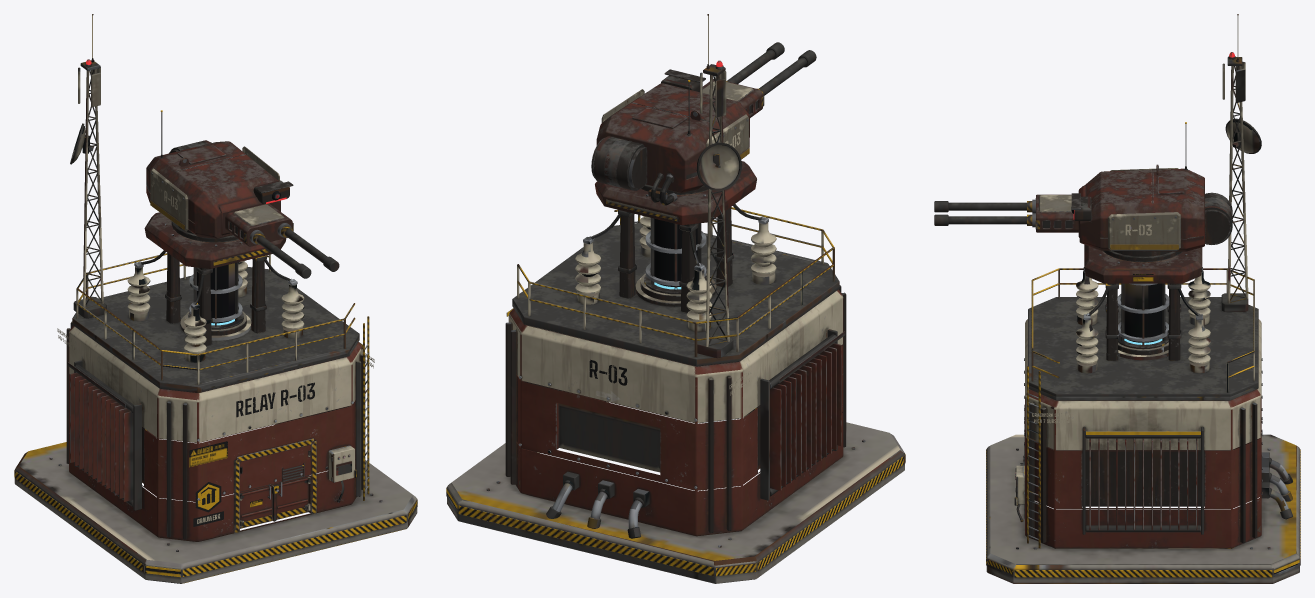
Rendered from SM_enemy_relay.fbx.
The picture shows the model from 3 angles, left to right: view 1: azimuth 30°, elevation 25°; view 2: azimuth 150°, elevation 25°; view 3: azimuth 270°, elevation 25°; orthographic projection. The views are drawn at different scales.
Visible parts, largest first — view 1: base_geo, kit_geo, head_geo, door_geo, barrel_geo, base_decals, core_glass_geo, core_geo; view 2: base_geo, kit_geo, head_geo, barrel_geo, core_glass_geo, core_geo; view 3: base_geo, kit_geo, head_geo, barrel_geo, core_glass_geo, core_geo, door_geo.
Boxes of the visible parts, <box> form: base_geo: <box>14,212,417,583</box>; kit_geo: <box>66,14,369,539</box>; head_geo: <box>146,110,293,242</box>; door_geo: <box>234,438,357,533</box>; barrel_geo: <box>218,196,339,278</box>; base_decals: <box>57,328,374,526</box>; core_glass_geo: <box>197,263,234,323</box>; core_geo: <box>189,262,242,326</box>; base_geo: <box>446,161,905,583</box>; kit_geo: <box>505,14,846,538</box>; head_geo: <box>591,69,749,205</box>; barrel_geo: <box>702,42,816,117</box>; core_glass_geo: <box>654,218,697,286</box>; core_geo: <box>645,218,706,290</box>; base_geo: <box>986,244,1300,583</box>; kit_geo: <box>1024,14,1292,548</box>; head_geo: <box>1071,122,1232,262</box>; barrel_geo: <box>934,185,1086,237</box>; core_glass_geo: <box>1124,283,1162,342</box>; core_geo: <box>1117,283,1169,346</box>; door_geo: <box>1014,404,1026,522</box>.
Size of the model in its own units: 10.64 by 17.44 by 12.39.
Materials: 3 (3 with a texture image).
